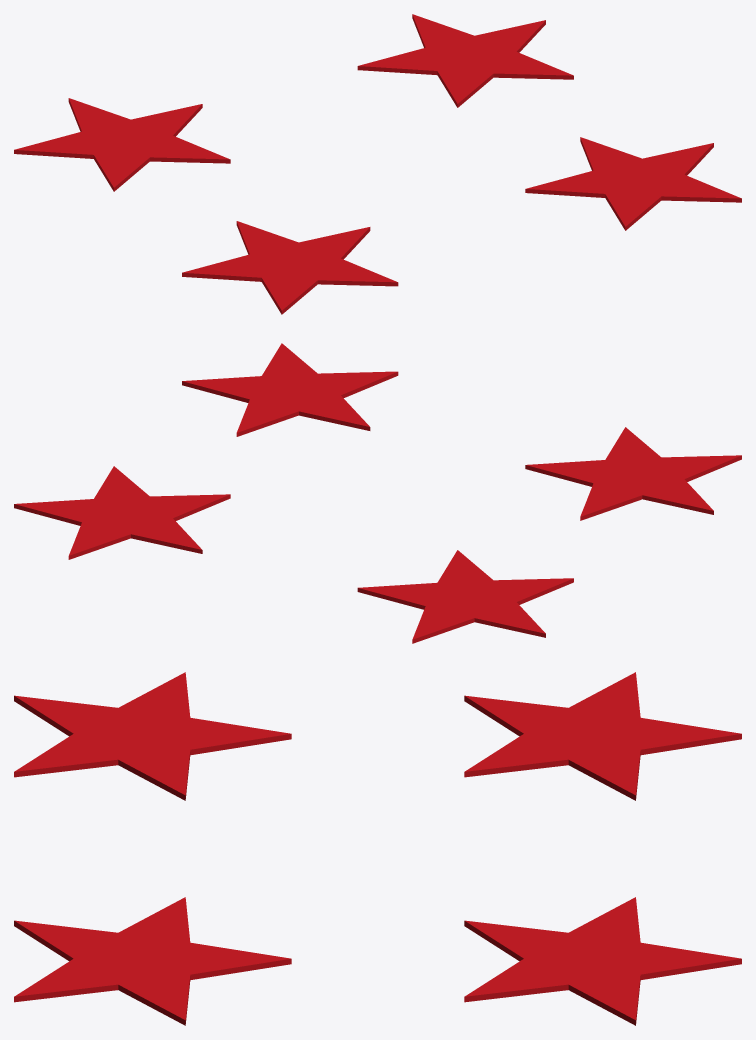
The model's file is PlazaEmblem_DragonBallStar.fbx.
3 renders of one model, top to bottom at view 1: azimuth 30°, elevation 25°; view 2: azimuth 150°, elevation 25°; view 3: azimuth 270°, elevation 25°, orthographic. The views are drawn at different scales.
Visible parts, largest first — view 1: EmblemStar0.001; view 2: EmblemStar0.001; view 3: EmblemStar0.001.
Part boxes in pixels (<box>): EmblemStar0.001: <box>14,14,741,314</box>; EmblemStar0.001: <box>14,343,741,643</box>; EmblemStar0.001: <box>14,672,741,1025</box>.
Size of the model in its own units: 805 by 6 by 711.
